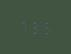five: (41, 20, 51, 34)
seven: (18, 19, 28, 33)
three: (30, 19, 40, 34)
